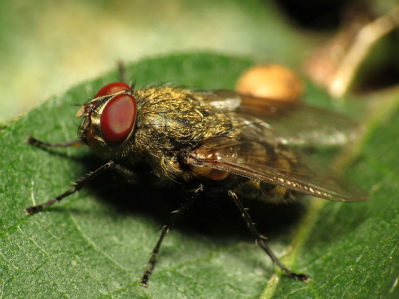green bottles fly: (20, 57, 355, 291)
